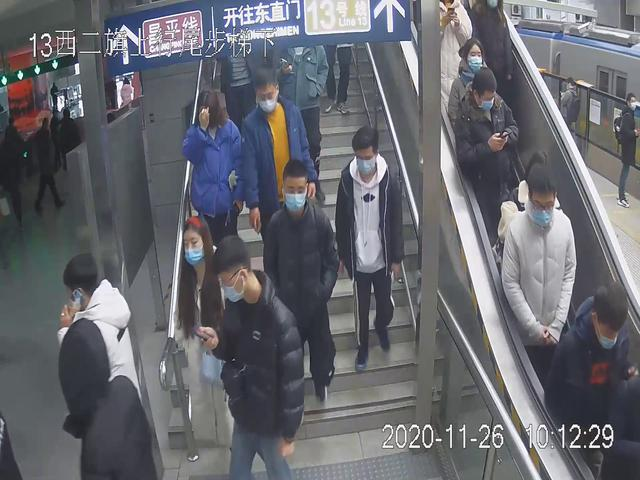person: (205, 232, 308, 480), (165, 212, 248, 471), (260, 160, 342, 409), (543, 273, 640, 480), (500, 158, 579, 395), (333, 125, 408, 374), (236, 61, 324, 265), (181, 84, 248, 282), (450, 63, 522, 240)
